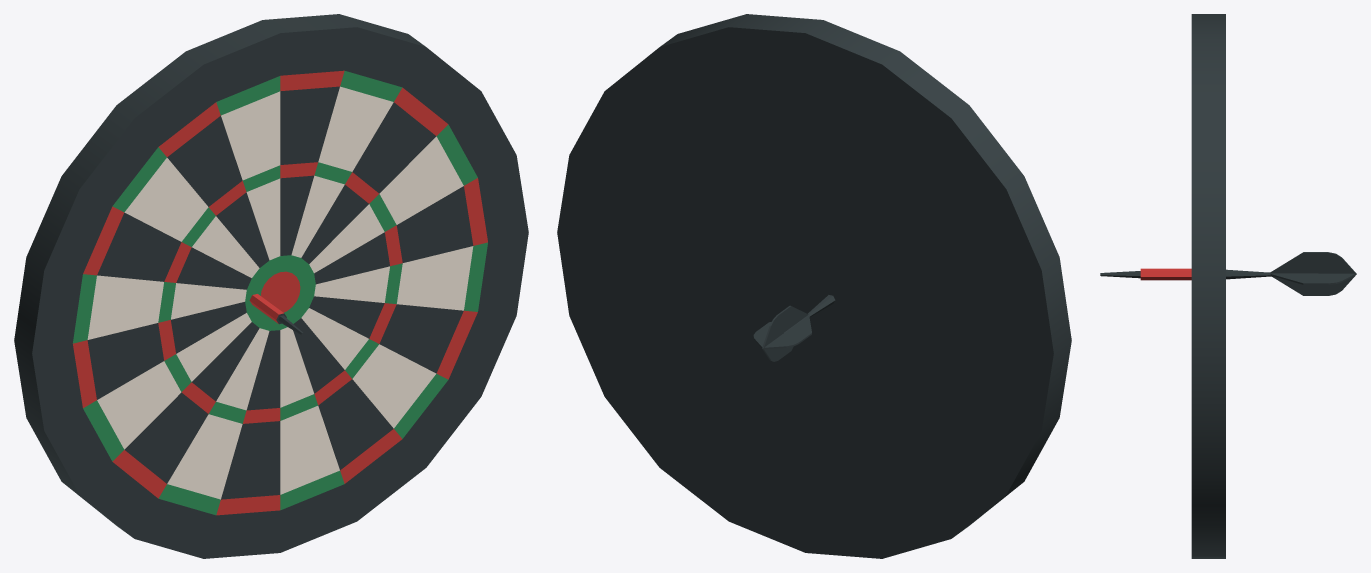
Rendered from Darts_01.fbx.
The picture shows the model from 3 angles, left to right: view 1: azimuth 30°, elevation 25°; view 2: azimuth 150°, elevation 25°; view 3: azimuth 270°, elevation 25°; orthographic projection. The views are drawn at different scales.
Parts seen in each view (by area): view 1: Darts_01, Darts_Arrow_01; view 2: Darts_01, Darts_Arrow_01; view 3: Darts_01, Darts_Arrow_01.
Boxes of the visible parts, bbox=[...] form: Darts_01: bbox=[14, 14, 528, 558]; Darts_Arrow_01: bbox=[249, 294, 303, 335]; Darts_01: bbox=[557, 14, 1071, 558]; Darts_Arrow_01: bbox=[753, 295, 835, 361]; Darts_01: bbox=[1191, 14, 1225, 558]; Darts_Arrow_01: bbox=[1100, 252, 1356, 295].
Bounding box in the file's own units: 0.5339 × 0.5339 × 0.2493.
